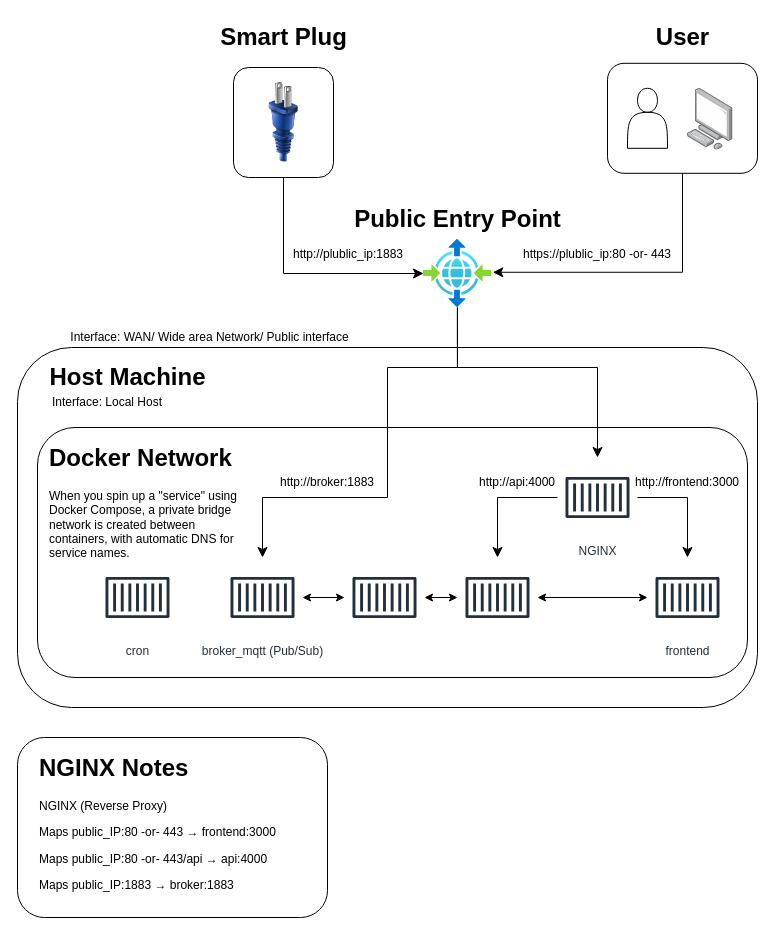
Image size: 775x937. Some labels were removed from this diagram. Each missing label, with the centre of its shape:
"pg_db" goes at pixel 384 597.
"rest_api" goes at pixel 497 597.
